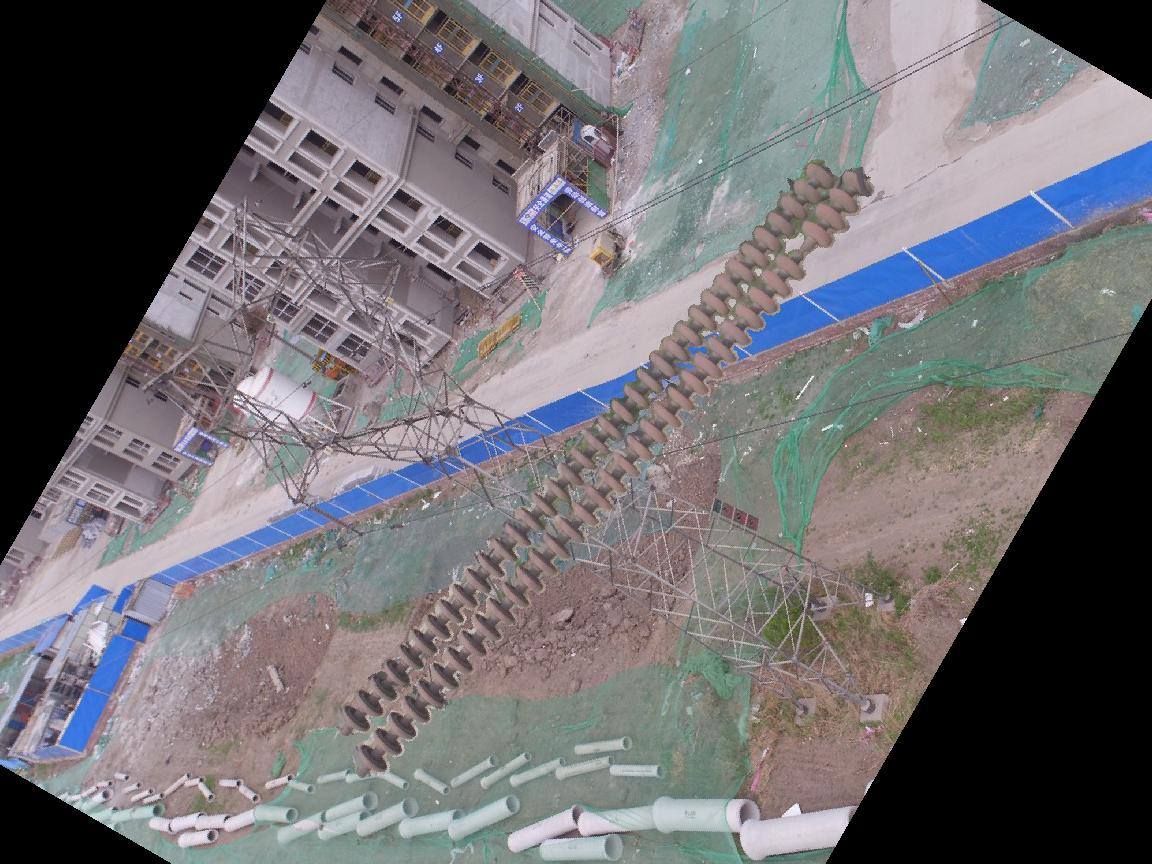insulator: (334, 156, 867, 783)
insulator_stringdrop: (772, 217, 836, 284)
